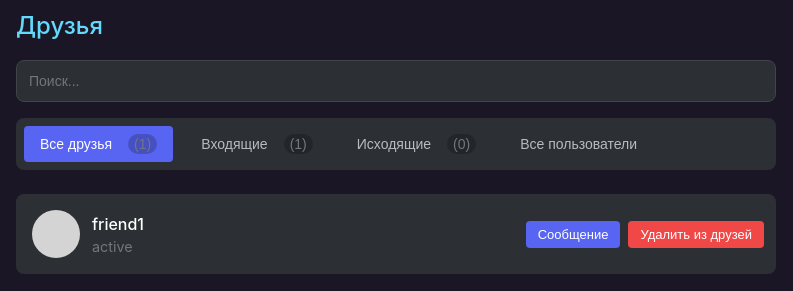
Test: FriendsTab Component › отображает входящие заявки
The image size is (793, 291).
Click the button "Входящие (1)": {"x": 257, "y": 144} [185,126,329,162]
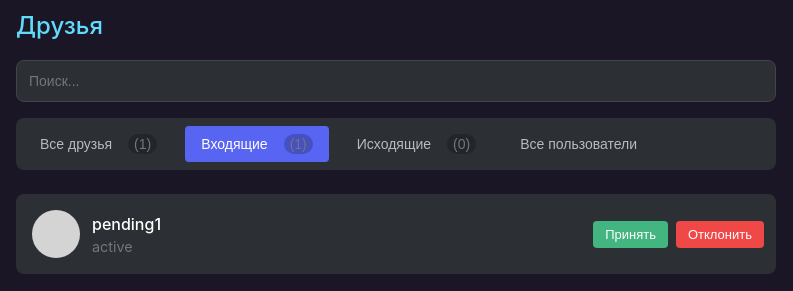
expect the text "pending1" is shown: met, box [92,214,161,234]
